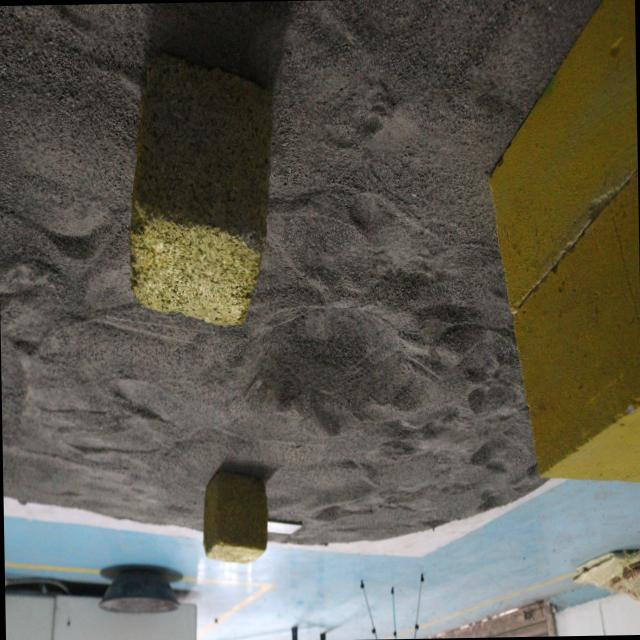box: (483, 0, 640, 504), (128, 66, 278, 336), (196, 459, 280, 573)
crater: (232, 274, 461, 456)
